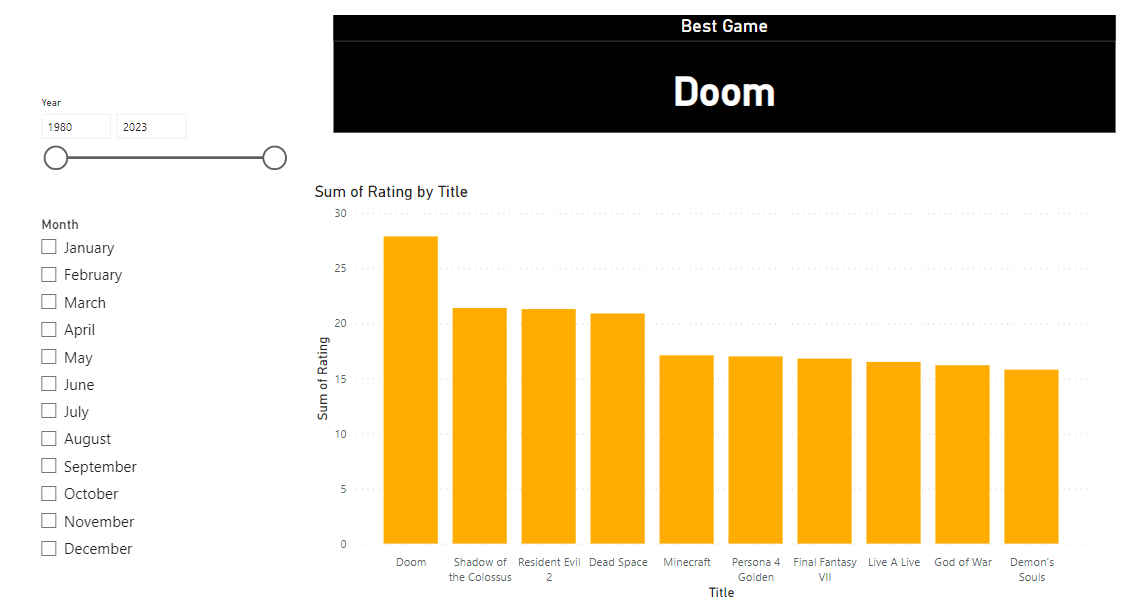

Layout of this report page (visuals, bound fields, positions):
{"tool":"powerbi","page":{"name":"Page 1","canvas":[1280,720],"ordinal":0},"visuals":[{"type":"slicer","fields":{"Values":["games.Release Date.Variation.Date Hierarchy.Year"]},"box":[98.2,113.3,281.3,126.5],"z":0},{"type":"slicer","fields":{"Values":["games.Release Date.Variation.Date Hierarchy.Month"]},"box":[98.2,239.8,268.1,383.2],"z":1000},{"type":"clusteredColumnChart","fields":{"Category":["games.Title"],"Y":["Sum(games.Rating)"]},"box":[396.5,207.7,828.8,447.4],"z":2000},{"type":"card","title":"Best Game","fields":{"Values":["Min(games.Title)"]},"box":[420.7,32.4,828.4,124.6],"z":3000}]}

Visuals, with their boxes on the page's 1280x720 design canvas (x1, y1, x2, y2). These are canvas units, not pixel positions in the 1132x612 screenshot, which may show the page scaled, cropped or inside an application window:
slicer - games.Release Date.Variation.Date Hierarchy.Year: bbox=(98, 113, 380, 240)
slicer - games.Release Date.Variation.Date Hierarchy.Month: bbox=(98, 240, 366, 623)
clusteredColumnChart - games.Title x Sum(games.Rating): bbox=(396, 208, 1225, 655)
"Best Game" card: bbox=(421, 32, 1249, 157)
